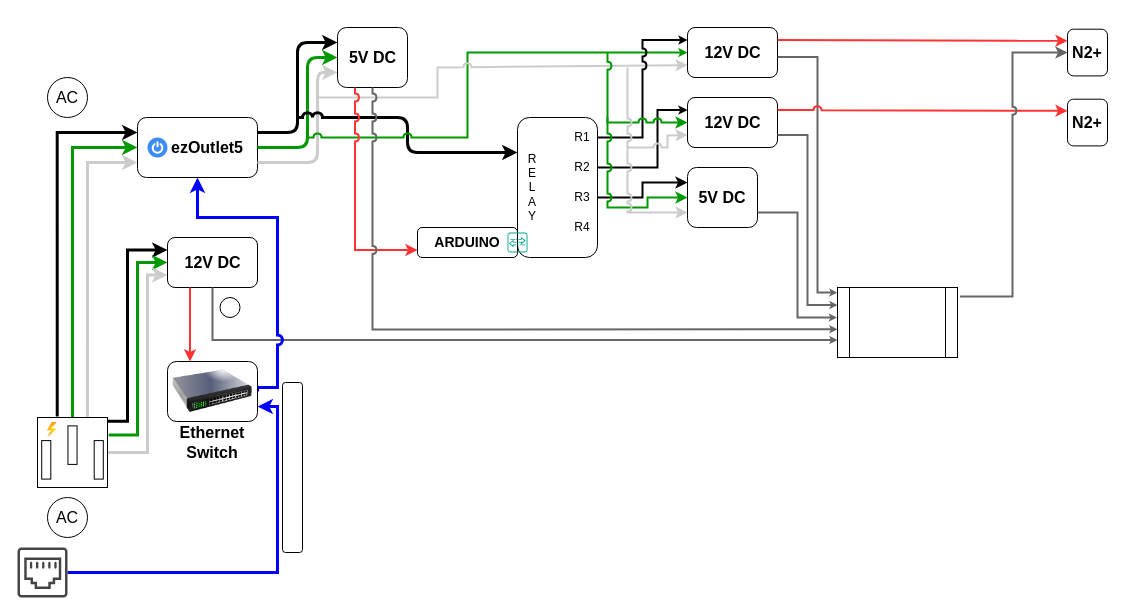
Some shapes in this 1134 by 614 pixel diagram are drawn without their labels. The shapes that lost their labels are listed below. From the top down, each one's centre as x and y in pixels, then its label:
At point (229, 307): "DC".
At point (897, 322): "COMMON GROUND".
At point (292, 467): "E T H E R N E T".
